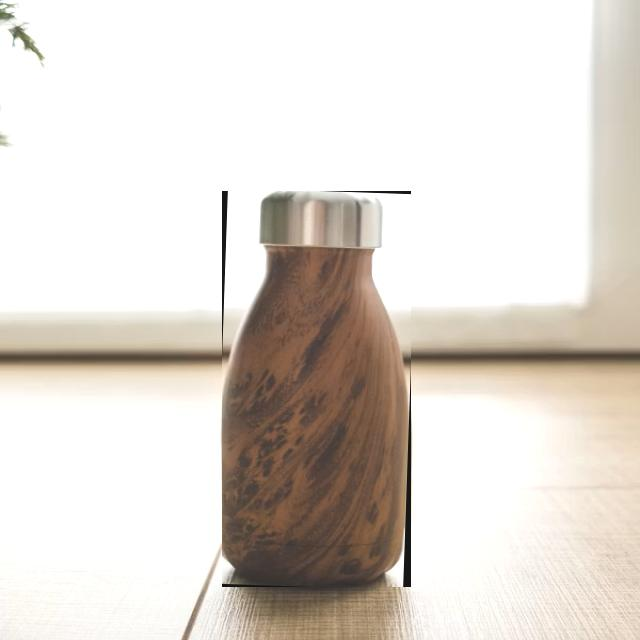Bottle: (221, 192, 409, 586)
